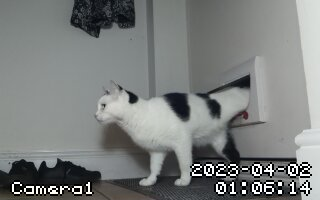bad: (88, 79, 250, 185)
